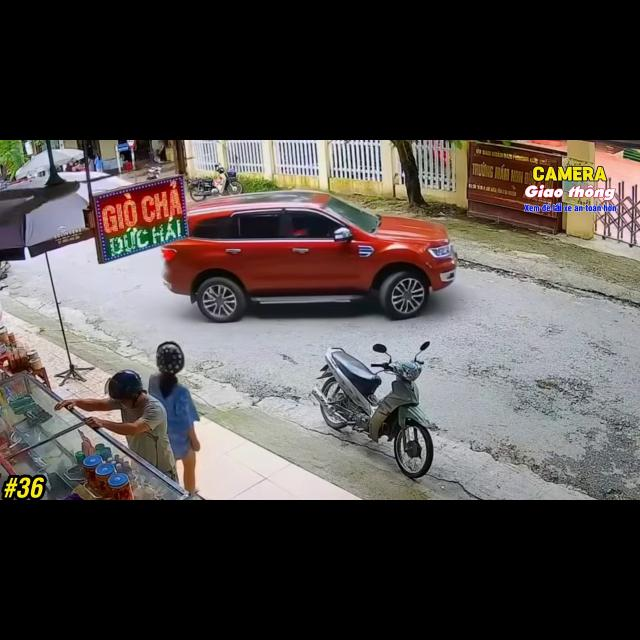car: (162, 191, 456, 322)
motorcycle: (312, 342, 433, 478), (188, 164, 242, 201), (146, 167, 162, 181), (0, 261, 10, 279)
